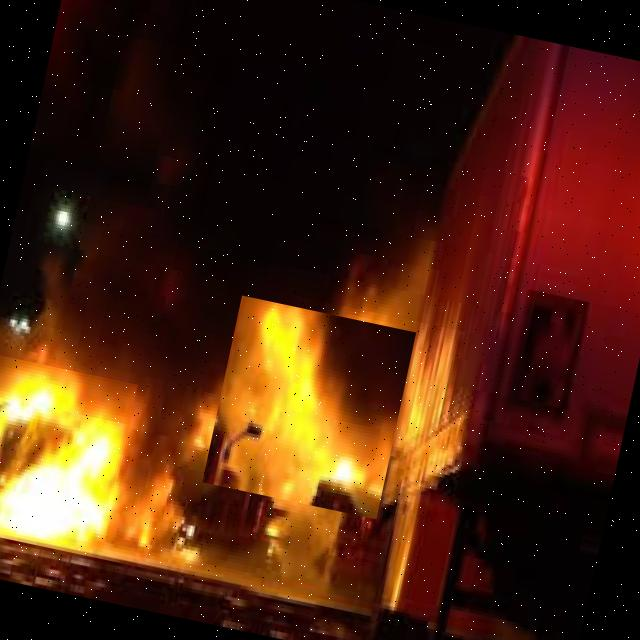fire: (201, 295, 415, 519), (0, 355, 136, 555)
